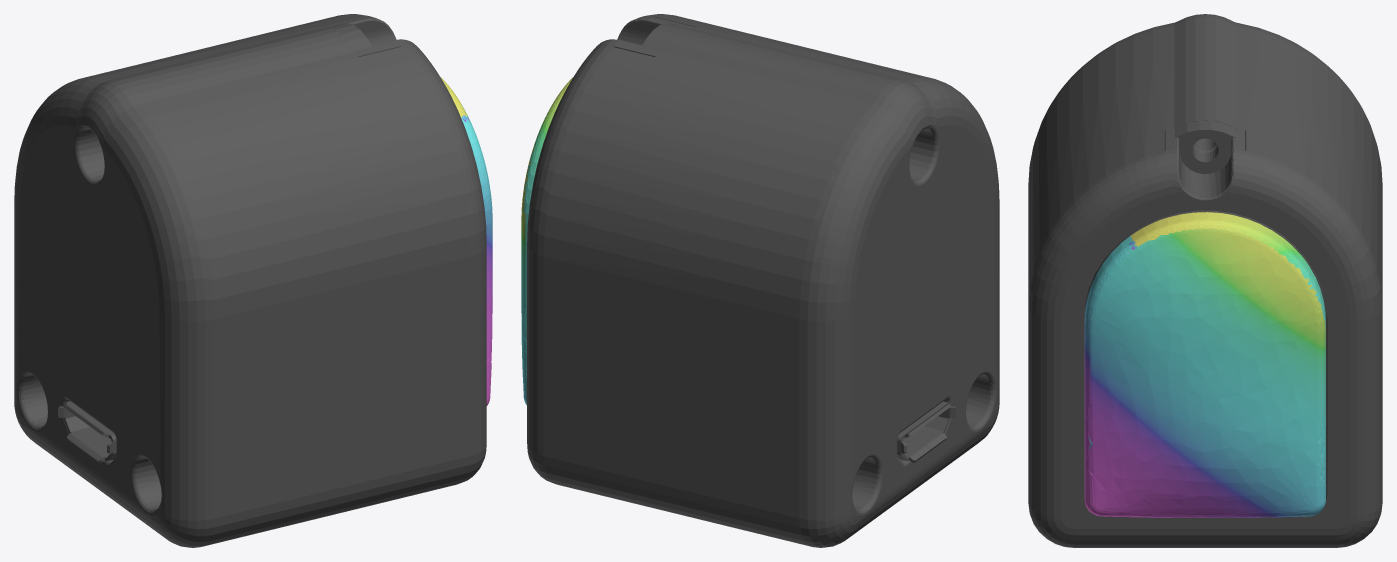
Rendered from digit.dae.
The picture shows the model from 3 angles, left to right: view 1: azimuth 30°, elevation 25°; view 2: azimuth 150°, elevation 25°; view 3: azimuth 270°, elevation 25°; orthographic projection.
Visible parts, largest first — view 1: digit, digit.066; view 2: digit, digit.066; view 3: digit, digit.066.
Boxes of the visible parts, <box> form: digit: <box>14,14,486,547</box>; digit.066: <box>440,77,492,405</box>; digit: <box>527,14,999,547</box>; digit.066: <box>521,77,572,405</box>; digit: <box>1028,14,1382,547</box>; digit.066: <box>1084,212,1325,517</box>.
Size of the model in its own units: 0.3233 by 0.27 by 0.3402.
Materials: 2 (1 with a texture image).
